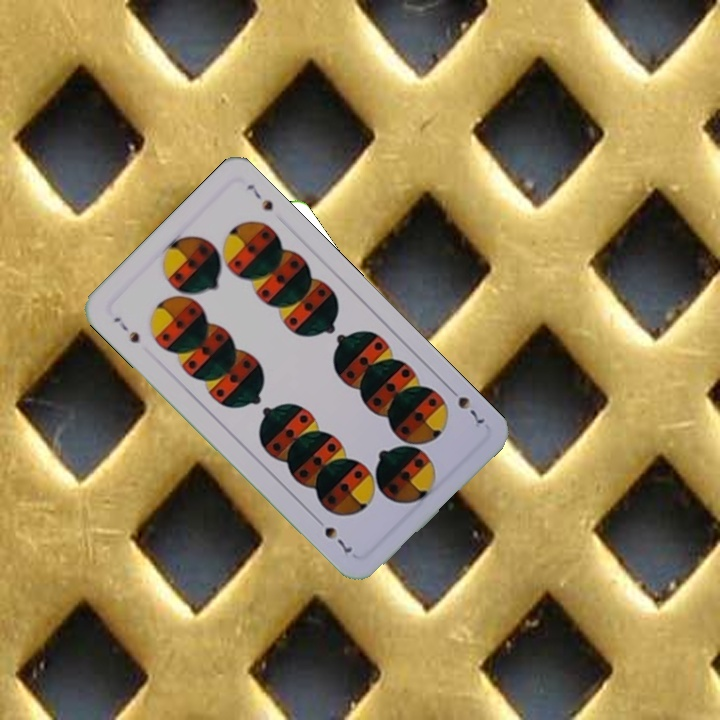S7: (443, 382, 488, 427), (109, 313, 142, 346)
